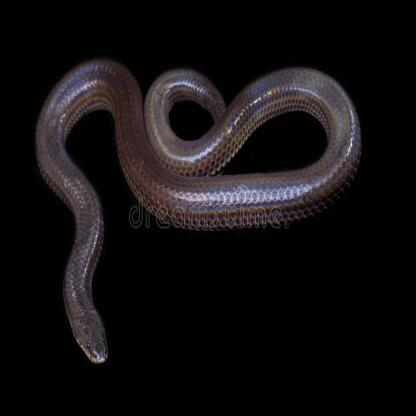snakes: (32, 41, 364, 392)
